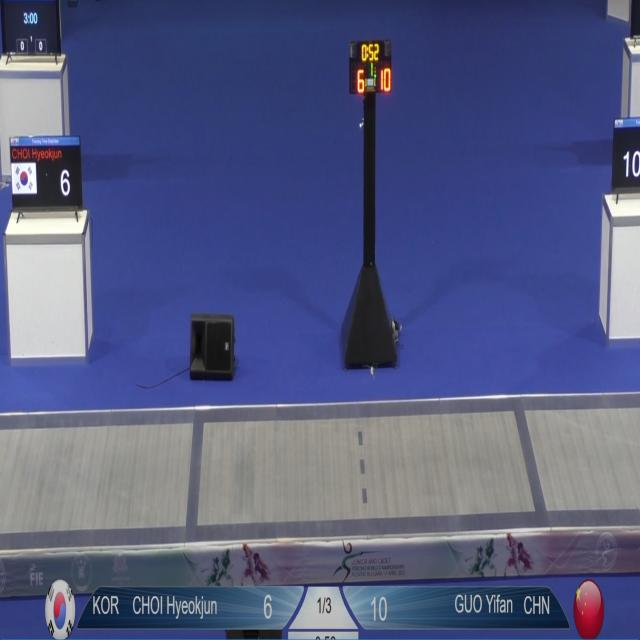overlayLeft: (80, 585, 258, 634)
overlayRight: (398, 587, 571, 630)
scoreLeft: (260, 584, 311, 629)
scoreRight: (335, 587, 396, 628)
